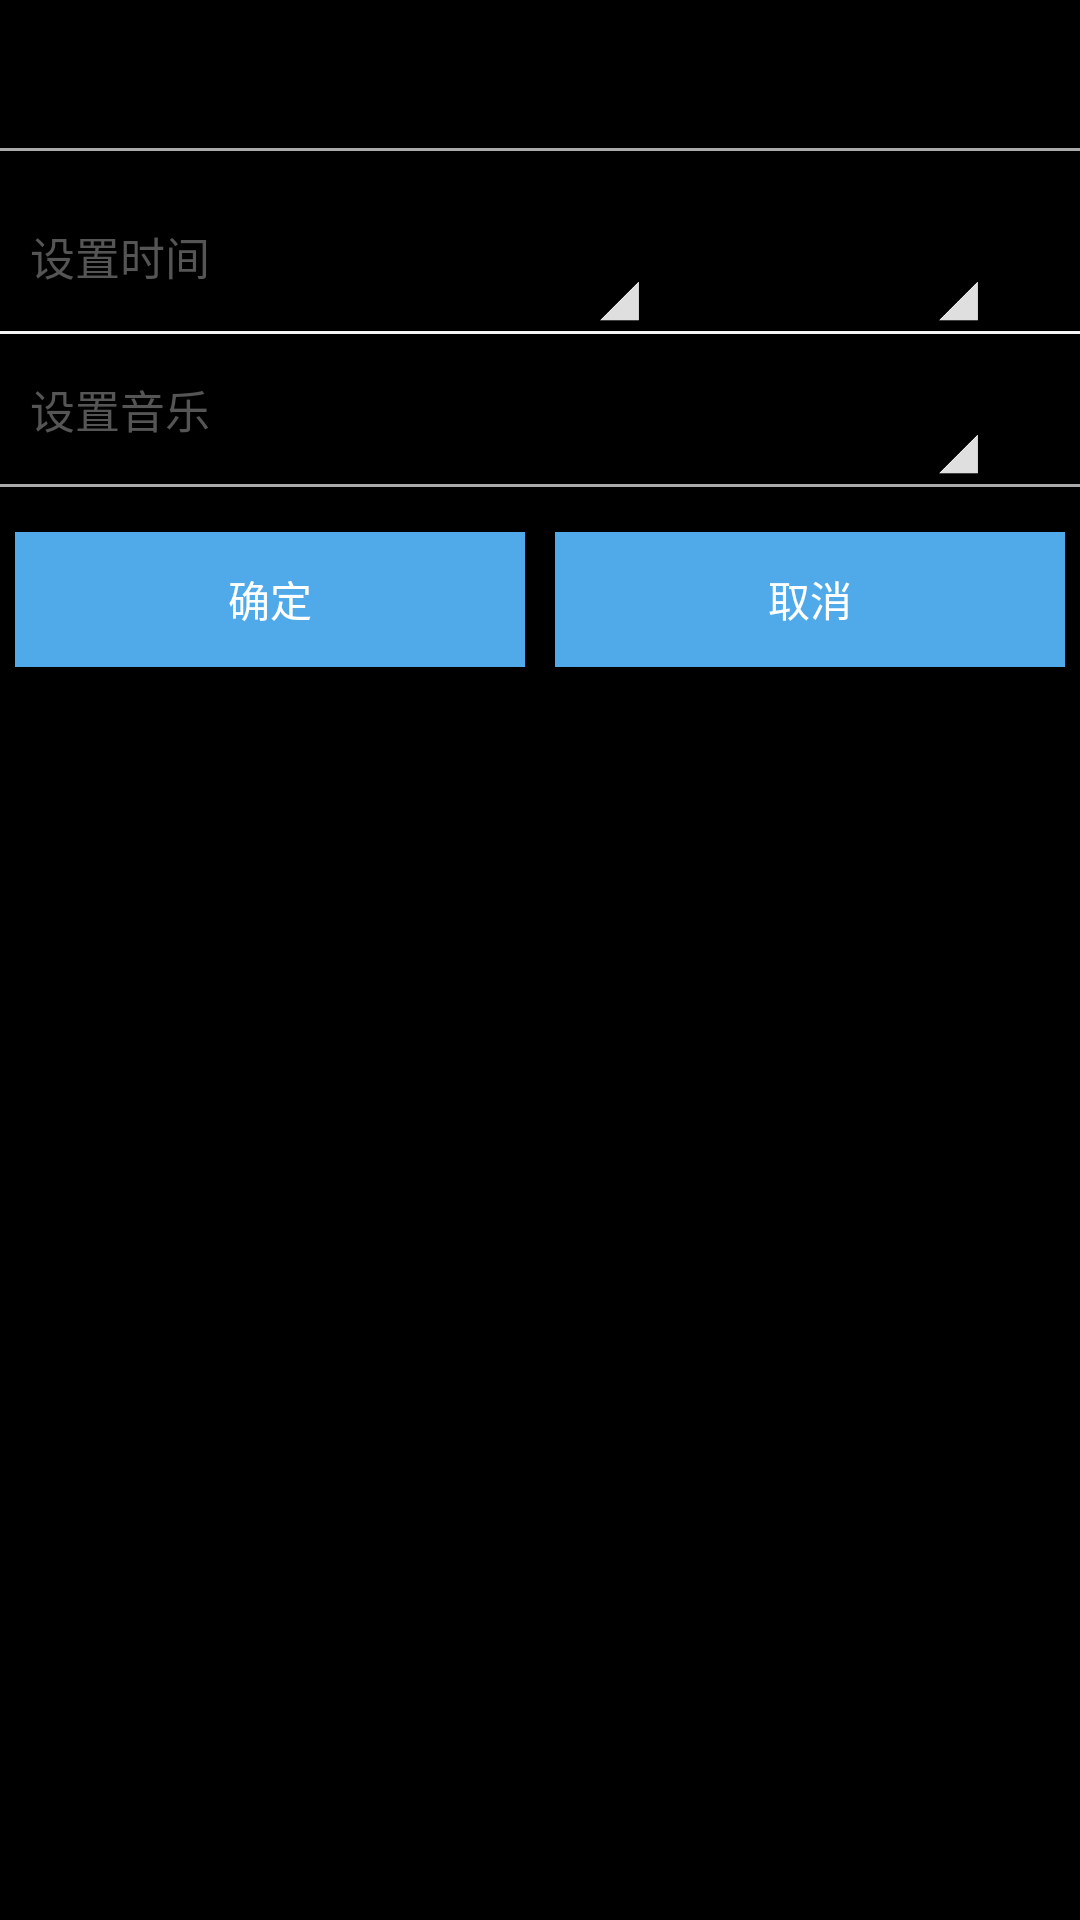

Icon bounding boxes for this 1080 × 1920 phone screenshot, format (x1, y1, x2, y2):
tirangle: (600, 282, 639, 321), (939, 282, 978, 321), (939, 435, 978, 474)
